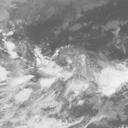cyclone: (31, 46, 101, 96)
